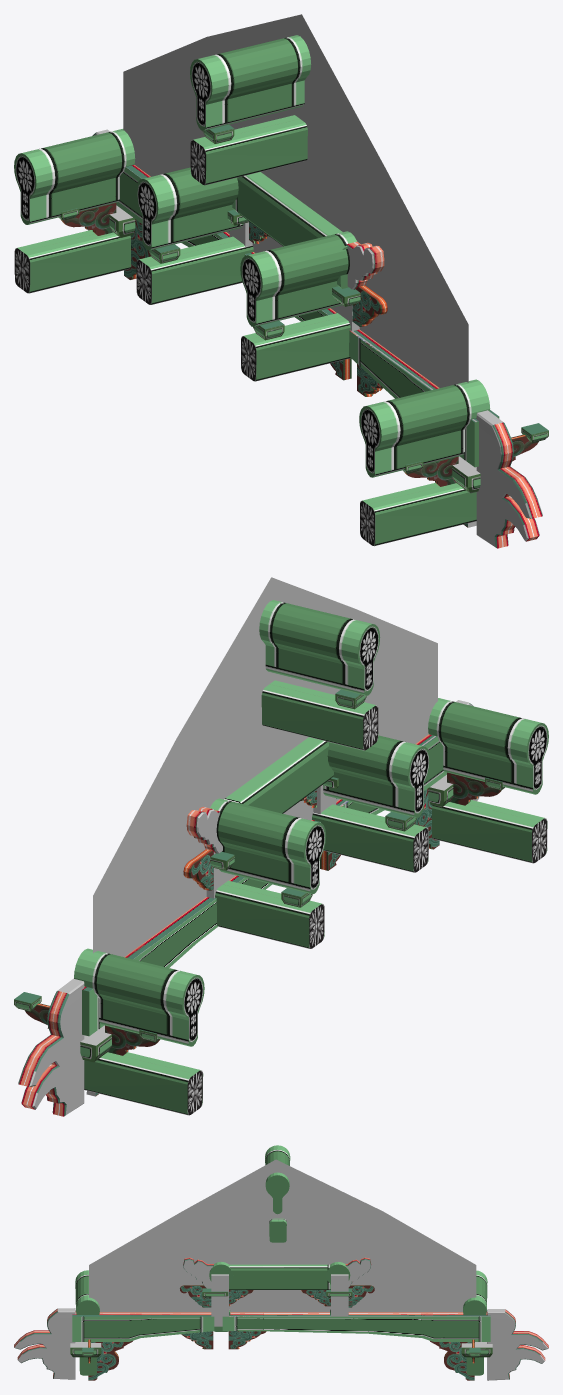
The model's file is SM_R_MiddleBeam_17.fbx.
3 views of the same model, one above another, from view 1: azimuth 30°, elevation 25°; view 2: azimuth 150°, elevation 25°; view 3: azimuth 270°, elevation 25° (orthographic). The views are drawn at different scales.
Visible parts, largest first — view 1: SM_R_MiddleBeam_17_LOD0; view 2: SM_R_MiddleBeam_17_LOD0; view 3: SM_R_MiddleBeam_17_LOD0.
Part boxes in pixels (bbox=[...]): SM_R_MiddleBeam_17_LOD0: bbox=[14, 14, 548, 548]; SM_R_MiddleBeam_17_LOD0: bbox=[14, 577, 548, 1116]; SM_R_MiddleBeam_17_LOD0: bbox=[14, 1145, 548, 1380].
Bounding box in the file's own units: 174 × 811 × 366.
